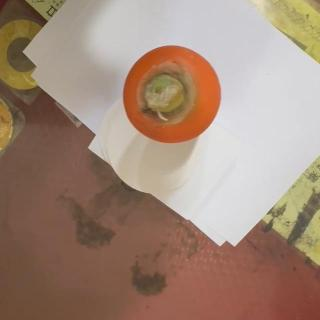carrot: (122, 44, 222, 144)
